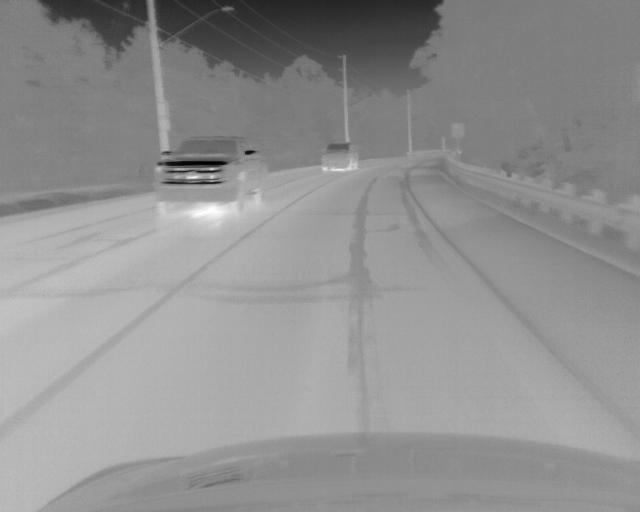car: (155, 134, 266, 216), (318, 142, 358, 175)
